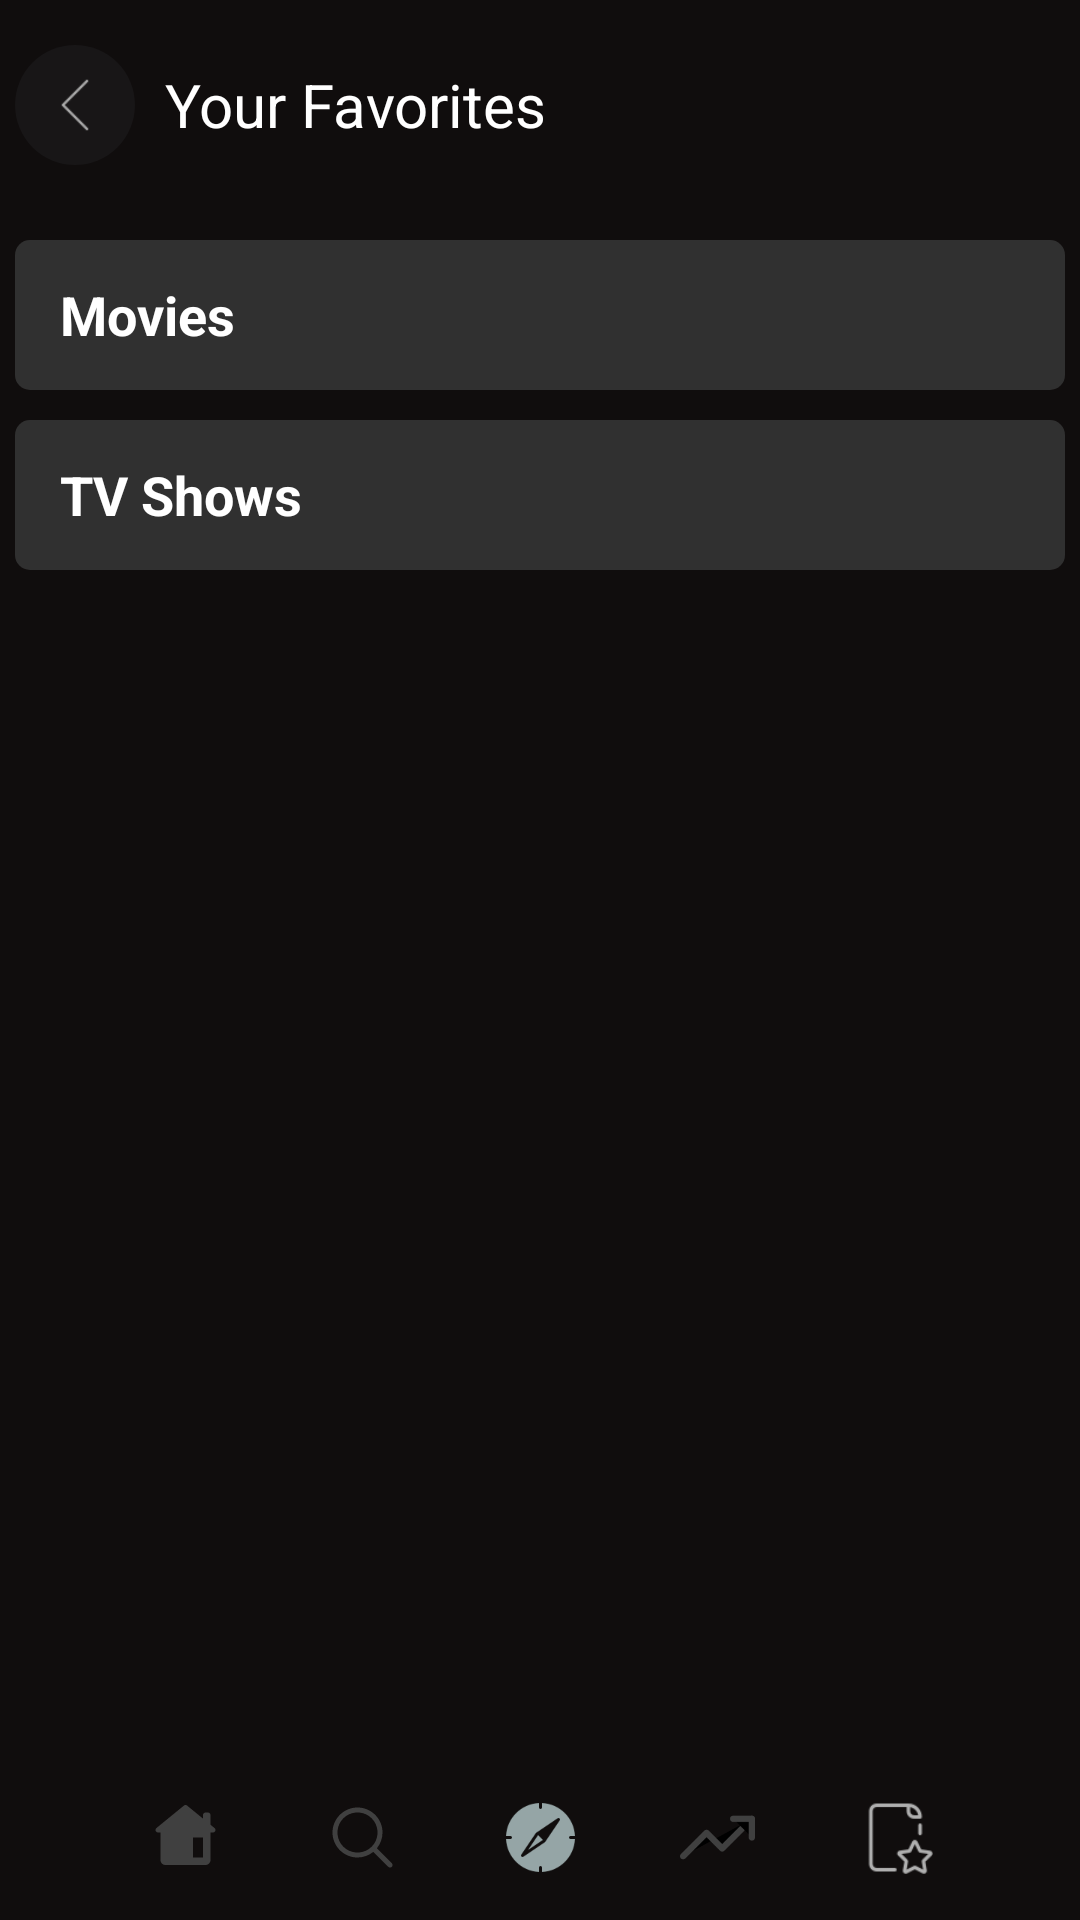

Icons on this 1080w x 1920h Android screen, each with its box as region(x1, y1, x2, y2):
explore: region(506, 1803, 575, 1872)
fav: region(868, 1803, 933, 1874)
go back: region(15, 45, 135, 165)
home: region(156, 1805, 215, 1865)
search: region(332, 1807, 392, 1867)
trending: region(680, 1816, 755, 1859)
